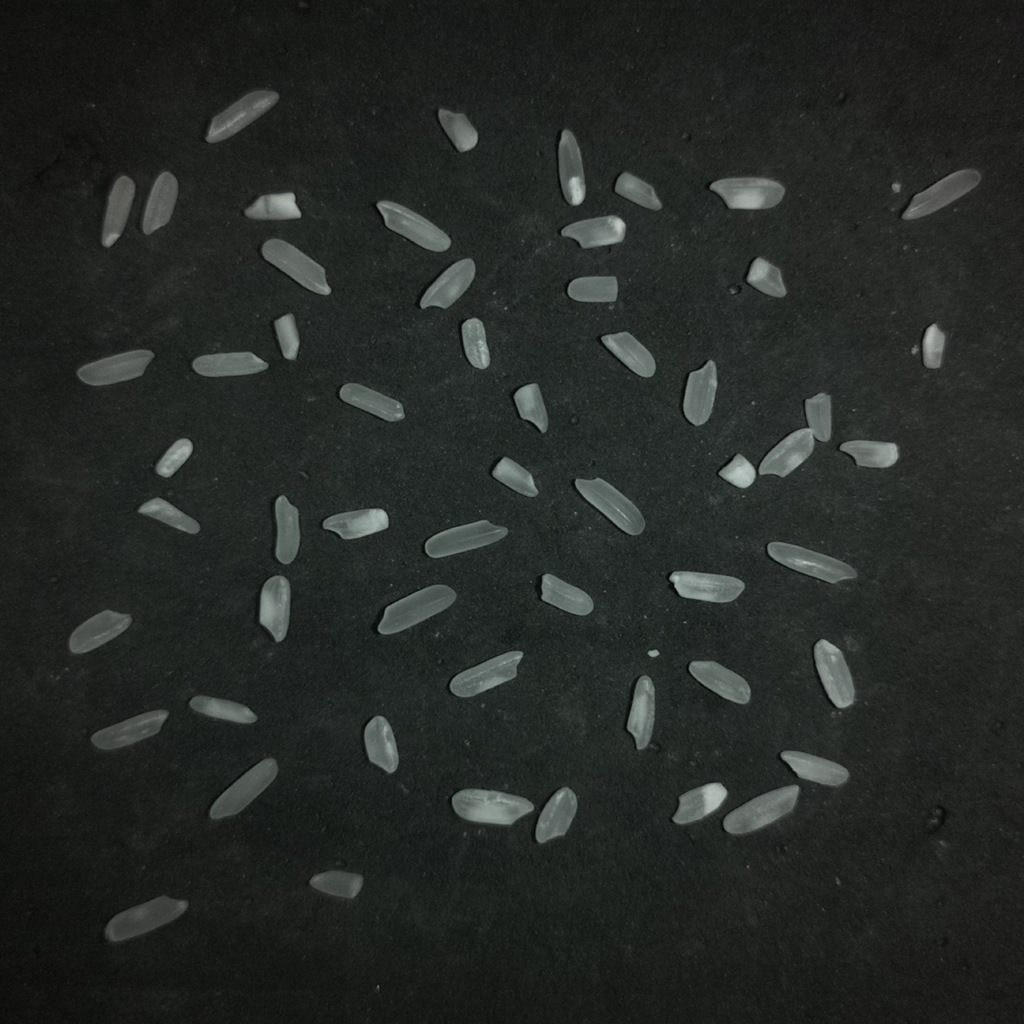broken: (541, 573, 593, 615), (308, 870, 363, 899), (804, 392, 831, 441), (567, 277, 617, 302)
chalky: (206, 90, 278, 142), (451, 789, 533, 825), (813, 640, 853, 708), (780, 750, 848, 786), (708, 177, 784, 209), (671, 782, 727, 824), (669, 571, 744, 602), (137, 498, 199, 534), (322, 508, 389, 539), (259, 575, 290, 642), (626, 676, 654, 749), (558, 130, 585, 205), (188, 695, 256, 723), (491, 457, 538, 497), (839, 440, 899, 469), (438, 108, 477, 152), (513, 383, 548, 432), (746, 257, 786, 297), (244, 192, 301, 220), (155, 438, 193, 477), (461, 318, 490, 369), (718, 454, 756, 488), (274, 313, 299, 360), (921, 323, 946, 368)
whole: (208, 757, 277, 819), (574, 478, 644, 535), (901, 169, 980, 219), (261, 238, 330, 295), (104, 895, 187, 942), (377, 584, 455, 634), (376, 200, 451, 251), (723, 784, 799, 834), (767, 542, 856, 583), (449, 650, 522, 697), (90, 709, 168, 750), (424, 520, 507, 557), (419, 258, 475, 308), (76, 350, 153, 386), (758, 427, 814, 476), (68, 609, 130, 653), (688, 661, 750, 704), (339, 383, 404, 421), (101, 176, 135, 247), (602, 332, 655, 377), (141, 171, 178, 235), (535, 787, 577, 843), (682, 360, 717, 425), (560, 215, 625, 248), (192, 351, 268, 377), (364, 715, 398, 773), (614, 171, 661, 210), (274, 495, 300, 564)
